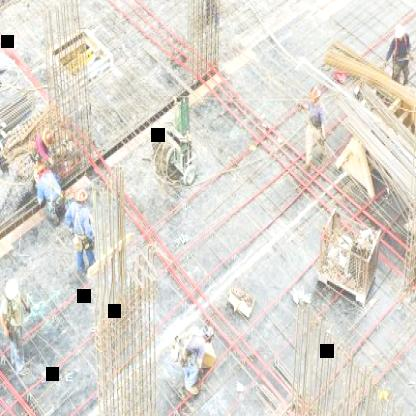helmet: (4, 276, 20, 306), (41, 125, 57, 153), (72, 184, 89, 209), (32, 160, 48, 180), (395, 19, 407, 45), (310, 83, 322, 107), (203, 320, 214, 344)
